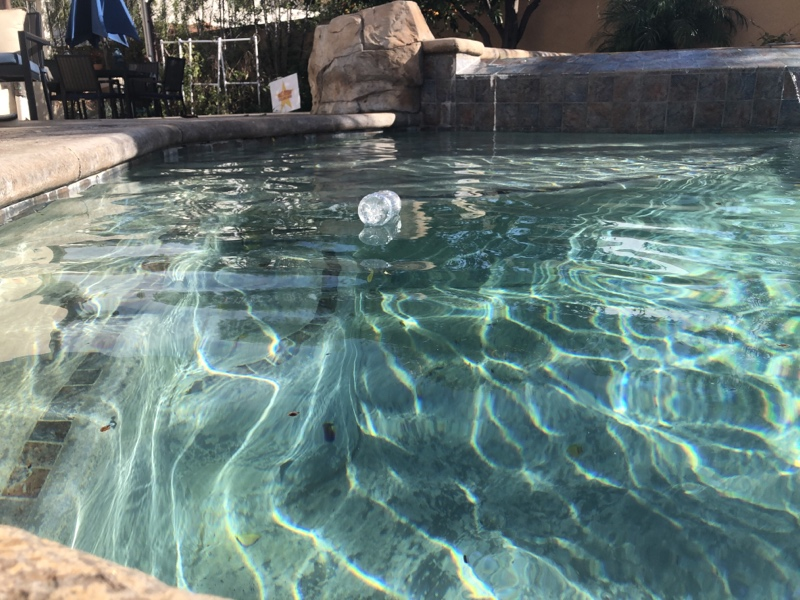Plastic Bottle: (357, 188, 403, 227)
